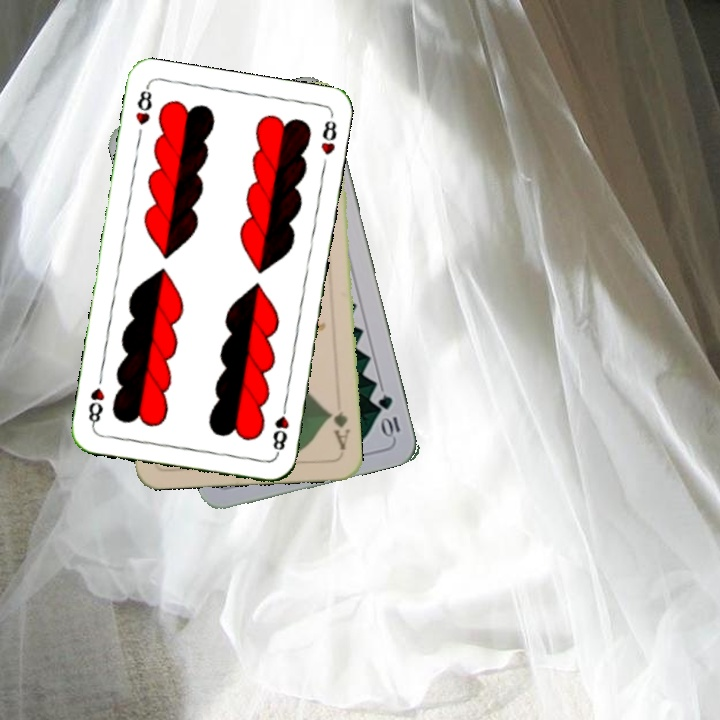G10: (374, 391, 403, 440)
GA: (325, 407, 353, 452)
H8: (269, 398, 291, 457), (131, 83, 155, 128)
